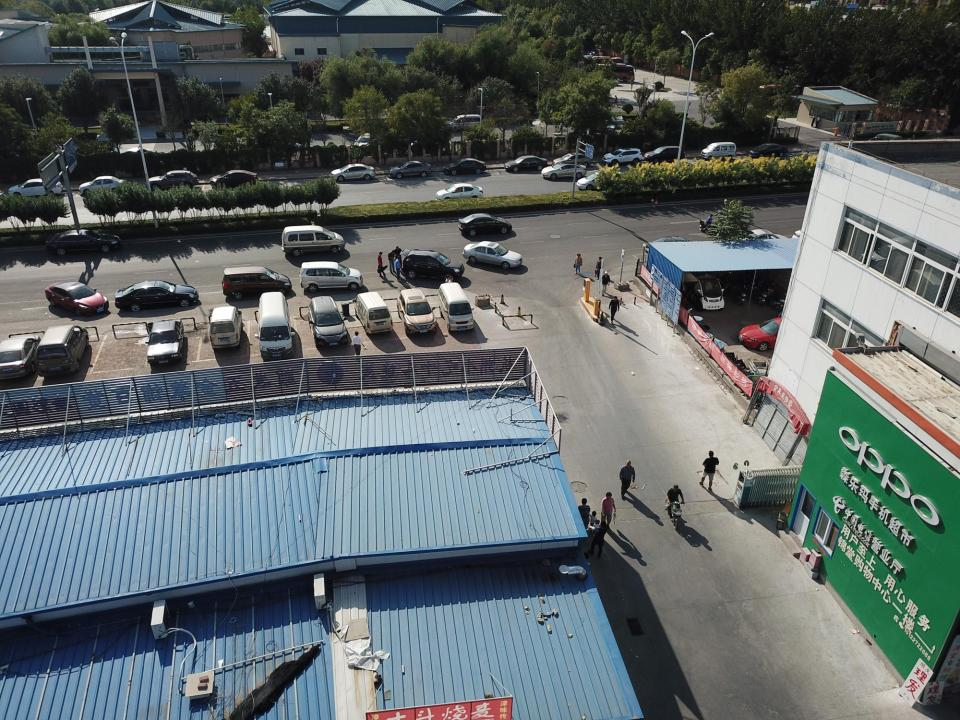bus: (589, 62, 636, 83), (579, 56, 624, 75)
car: (114, 280, 198, 310), (308, 294, 349, 348), (45, 282, 110, 316), (44, 231, 122, 256), (300, 262, 363, 292), (396, 288, 437, 334), (401, 251, 464, 280), (740, 316, 788, 352), (147, 318, 183, 366), (463, 241, 523, 269), (0, 336, 40, 377), (458, 214, 512, 236), (646, 236, 700, 257), (146, 170, 200, 191), (736, 228, 789, 249), (8, 178, 63, 198), (79, 175, 128, 197), (210, 168, 258, 188), (576, 170, 624, 190), (435, 183, 484, 202), (330, 163, 375, 183), (387, 160, 432, 179), (504, 156, 549, 175), (444, 159, 486, 178), (540, 163, 586, 179), (353, 130, 382, 154), (604, 147, 641, 165), (553, 151, 592, 168), (748, 142, 787, 159), (648, 146, 685, 163)
van: (36, 323, 88, 375), (257, 293, 293, 359), (224, 266, 292, 298), (283, 226, 344, 256), (438, 283, 474, 330), (355, 291, 393, 334), (210, 305, 243, 349), (445, 114, 483, 132), (701, 142, 735, 159)
